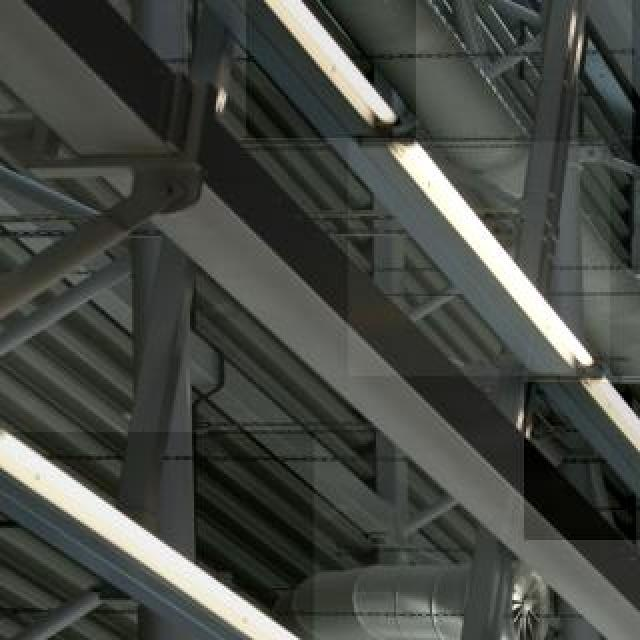fluorescent tube: (0, 414, 322, 640), (379, 115, 617, 369), (252, 0, 412, 137), (560, 356, 640, 542), (628, 0, 640, 188)
